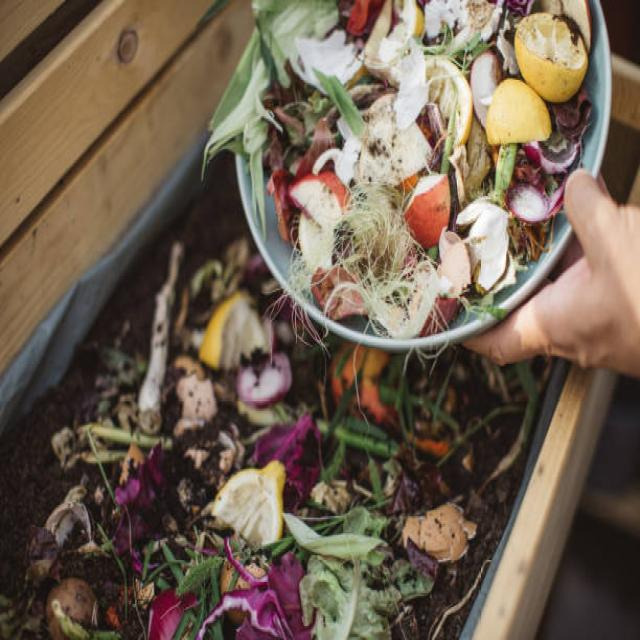Organic: (40, 395, 535, 640), (297, 0, 582, 320), (166, 232, 300, 398)
